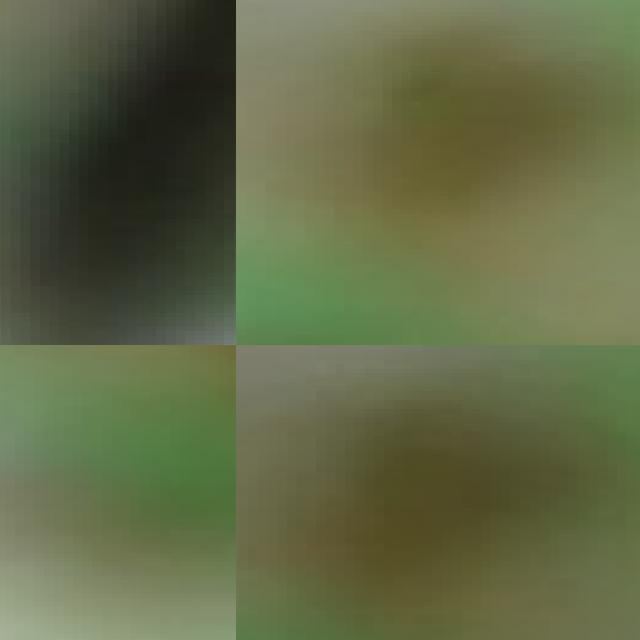fish: (0, 0, 236, 345), (421, 155, 640, 345)
